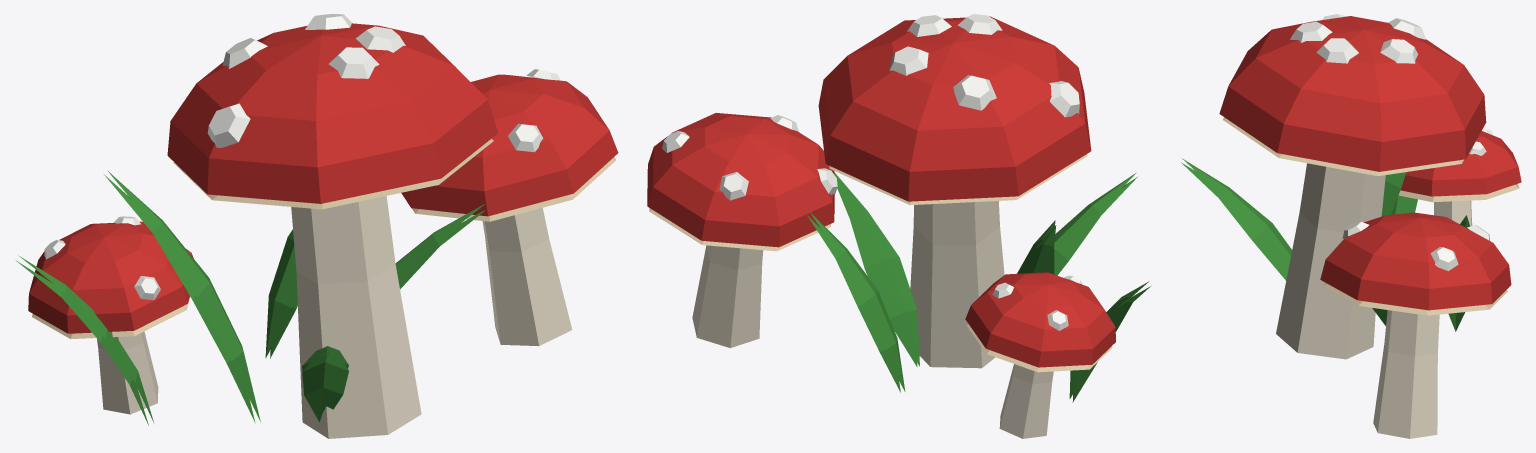
Rendered from Prop_Mushrooms.fbx.
The picture shows the model from 3 angles, left to right: view 1: azimuth 30°, elevation 25°; view 2: azimuth 150°, elevation 25°; view 3: azimuth 270°, elevation 25°; orthographic projection. The views are drawn at different scales.
Parts seen in each view (by area): view 1: Prop_Mushrooms; view 2: Prop_Mushrooms; view 3: Prop_Mushrooms.
Boxes of the visible parts, bbox=[...] form: Prop_Mushrooms: bbox=[16, 14, 618, 438]; Prop_Mushrooms: bbox=[647, 14, 1150, 438]; Prop_Mushrooms: bbox=[1181, 14, 1521, 438].
Bounding box in the file's own units: 0.3427 × 0.2149 × 0.2119.
